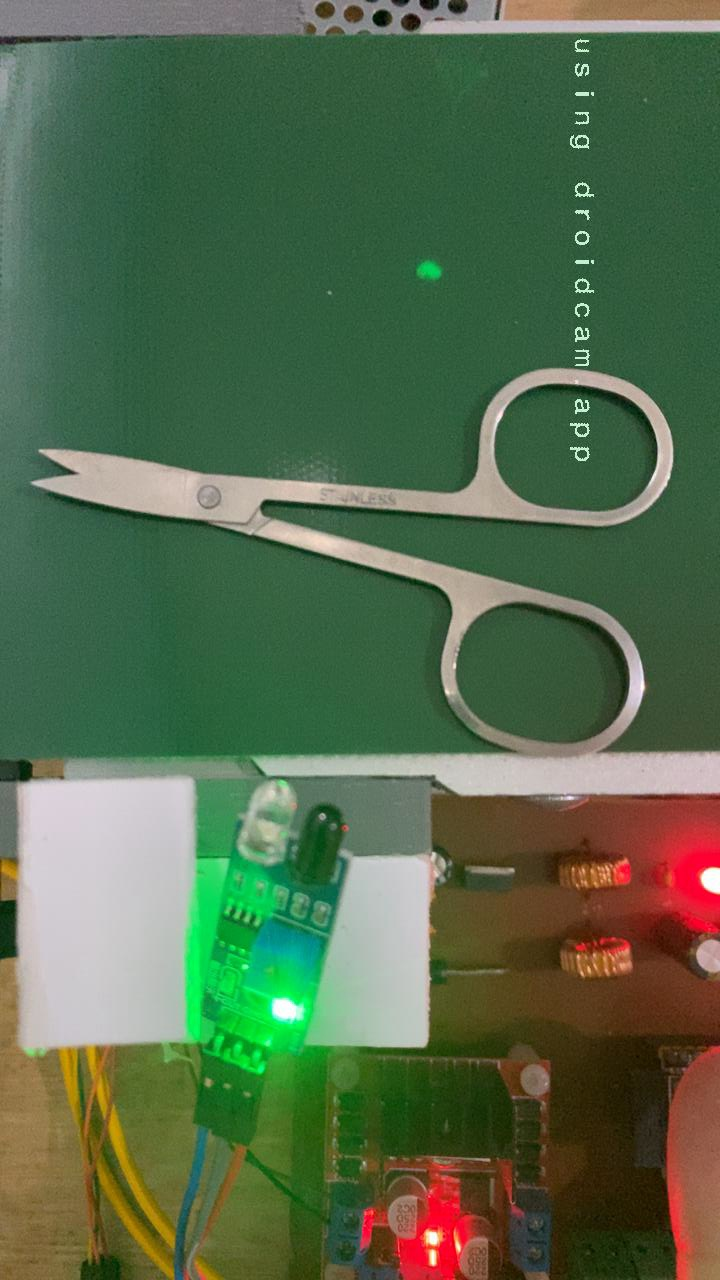scissor: (25, 361, 682, 757)
